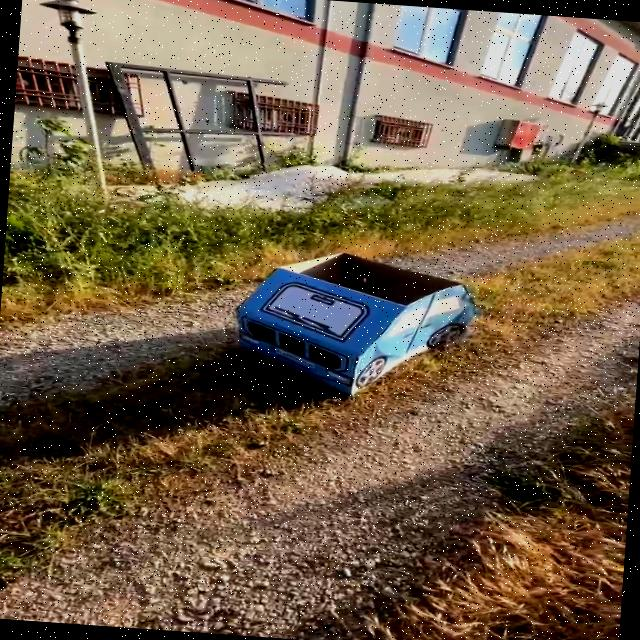blue_car: (142, 214, 523, 421)
